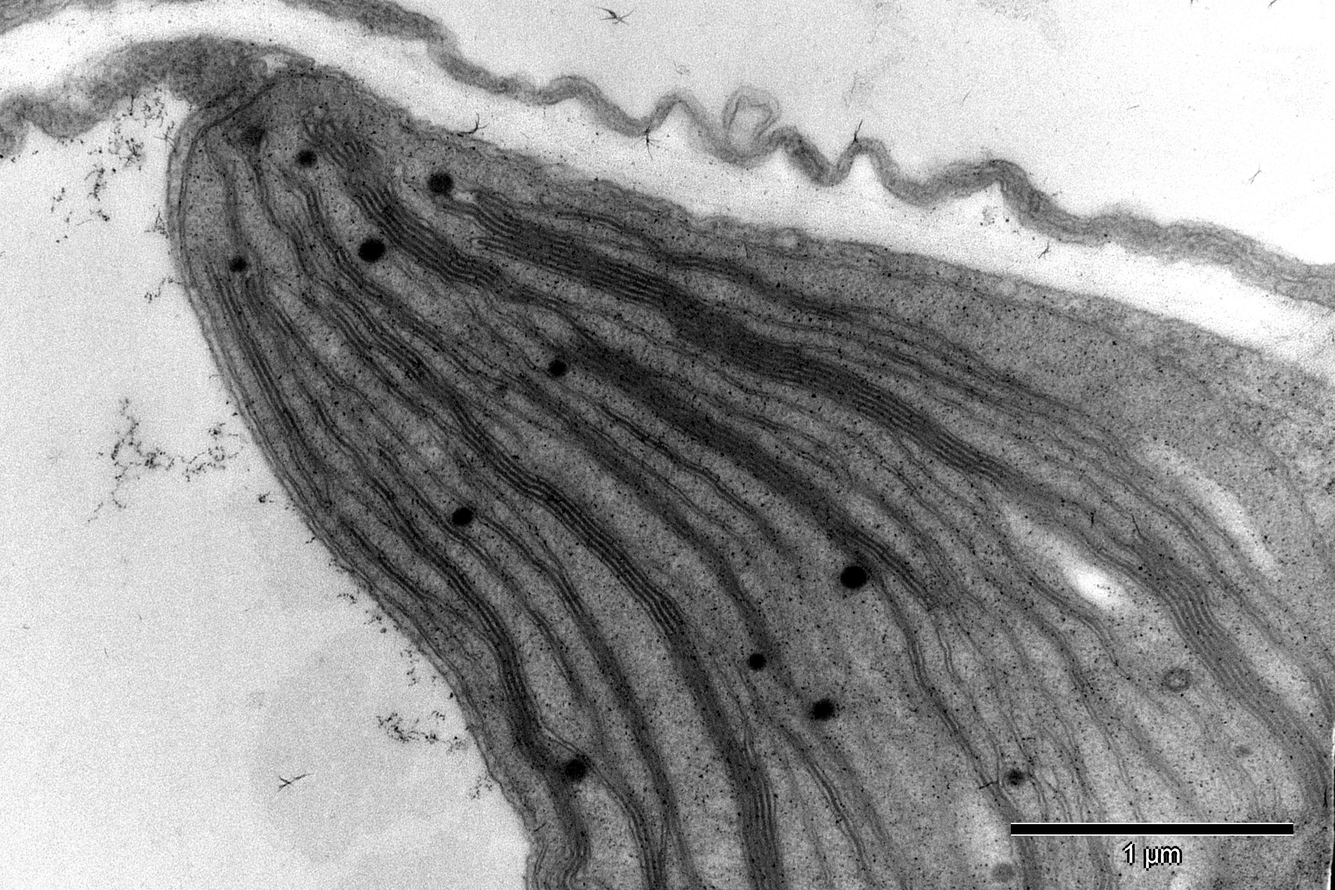granum: (573, 245, 1065, 525), (554, 321, 944, 616), (443, 395, 743, 753), (1118, 525, 1335, 828), (557, 415, 793, 682), (298, 107, 579, 325), (389, 511, 549, 755), (539, 563, 683, 811), (285, 172, 449, 357), (645, 231, 856, 329), (205, 278, 308, 442), (457, 179, 599, 283), (518, 735, 595, 884), (717, 740, 790, 889), (363, 313, 465, 413), (599, 770, 669, 889), (268, 215, 332, 286), (313, 296, 375, 361), (512, 368, 578, 427)
